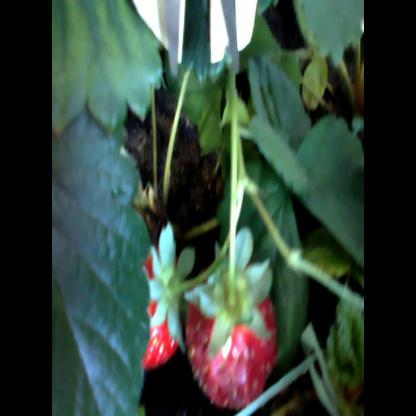ripe: (186, 249, 286, 412), (135, 205, 189, 369)
